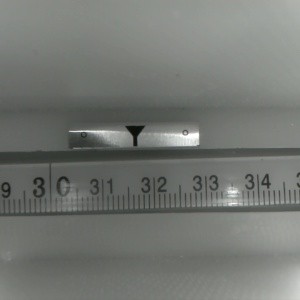0: (55, 176, 70, 196)
1: (106, 178, 113, 194)
2: (156, 177, 167, 192)
3: (31, 177, 45, 197), (191, 175, 202, 192), (207, 175, 218, 191), (89, 179, 99, 195), (140, 177, 150, 193), (245, 174, 254, 190), (295, 171, 300, 188)
4: (260, 173, 270, 188)
9: (0, 182, 10, 199)
finger: (122, 125, 145, 147)
